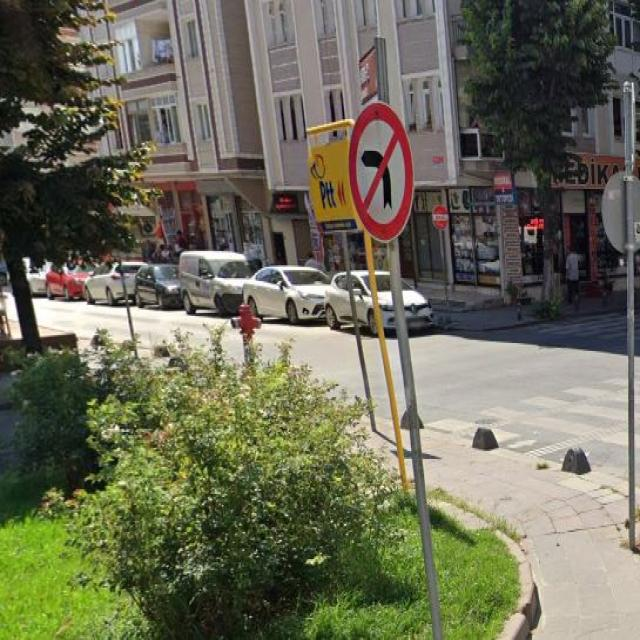soladonulmez: (348, 104, 414, 242)
